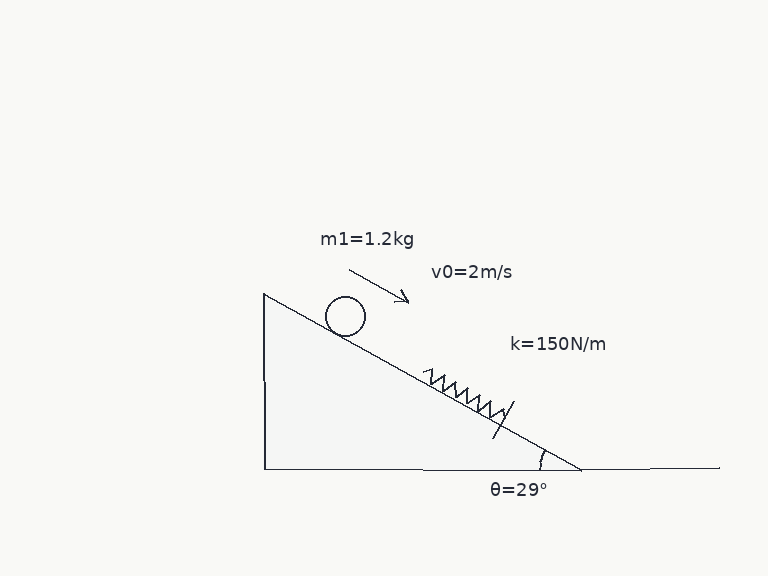ball: (323, 294, 367, 338)
ramp: (261, 291, 582, 471)
spring: (421, 367, 507, 419)
